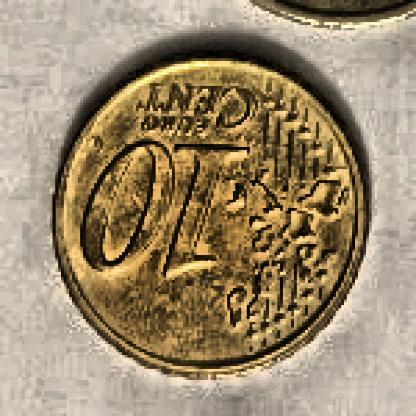coin: (50, 54, 374, 376)
